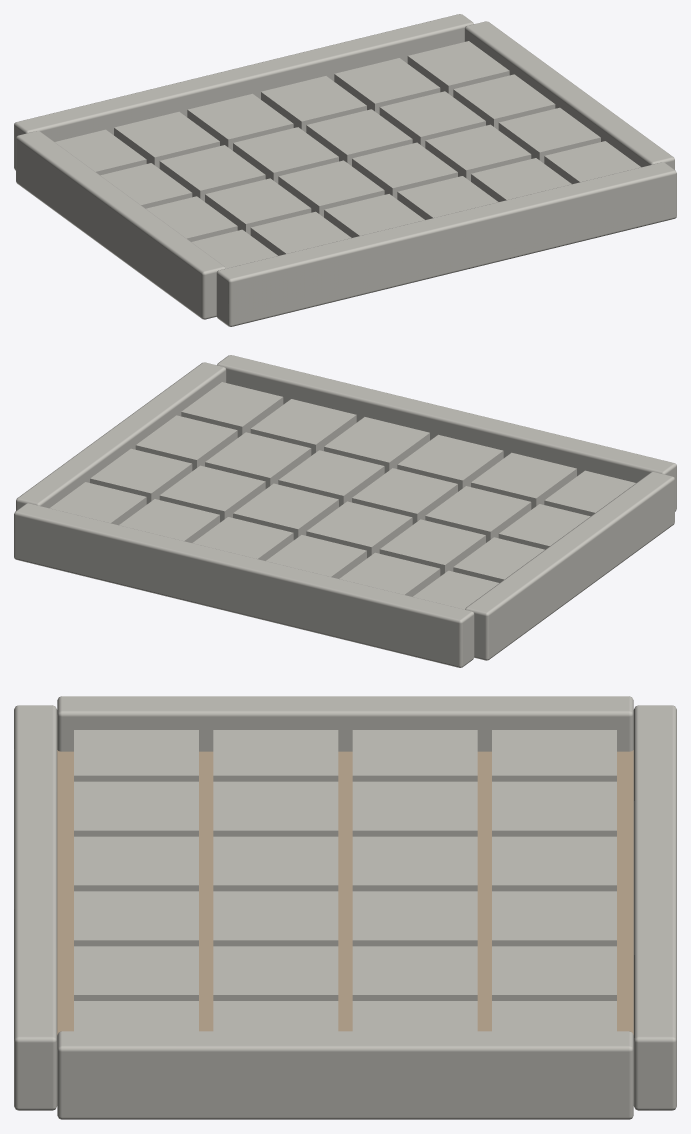
Rendered from korean-hanok-village-and-street-jangdokdae-terrace-fd10afaf__38059.glb.
The picture shows the model from 3 angles, top to bottom: view 1: azimuth 30°, elevation 25°; view 2: azimuth 150°, elevation 25°; view 3: azimuth 270°, elevation 25°; orthographic projection. The views are drawn at different scales.
Parts seen in each view (by area): view 1: jangdokdae-terrace; view 2: jangdokdae-terrace; view 3: jangdokdae-terrace.
Boxes of the visible parts, x1=… form: jangdokdae-terrace: x1=14, y1=14, x2=676, y2=326; jangdokdae-terrace: x1=14, y1=355, x2=676, y2=667; jangdokdae-terrace: x1=14, y1=696, x2=676, y2=1119.
Size of the model in its own units: 3.48 by 0.34 by 2.76.
